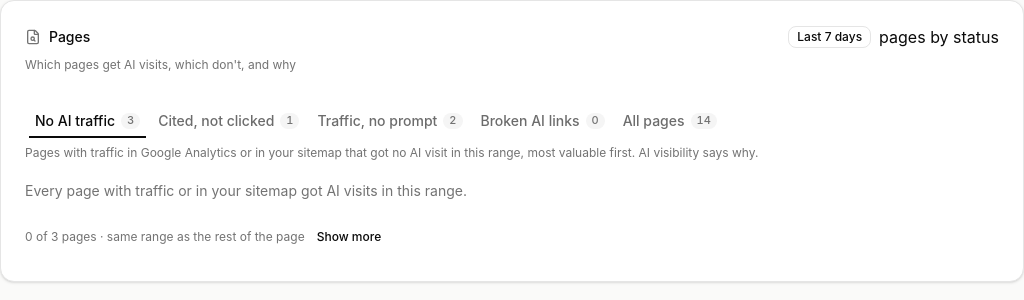
Test: PagesCard › says how broken links show up when there are none
The image size is (1024, 300).
Click the tab "Broken AI links 0". click: x=543, y=121
box: top-left (474, 108), bottom-right (612, 134)
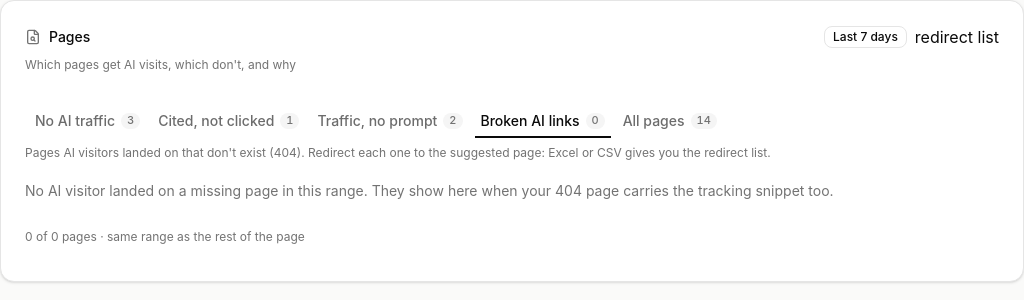
Now the text "when your 404 page carries the tracking snippet too" is shown, box top-left (25, 182), bottom-right (834, 199)
